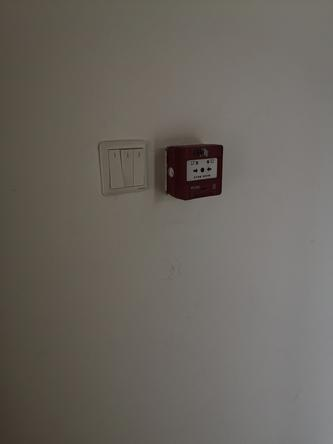switch: (129, 145, 149, 187), (106, 145, 125, 189), (117, 144, 136, 188)
